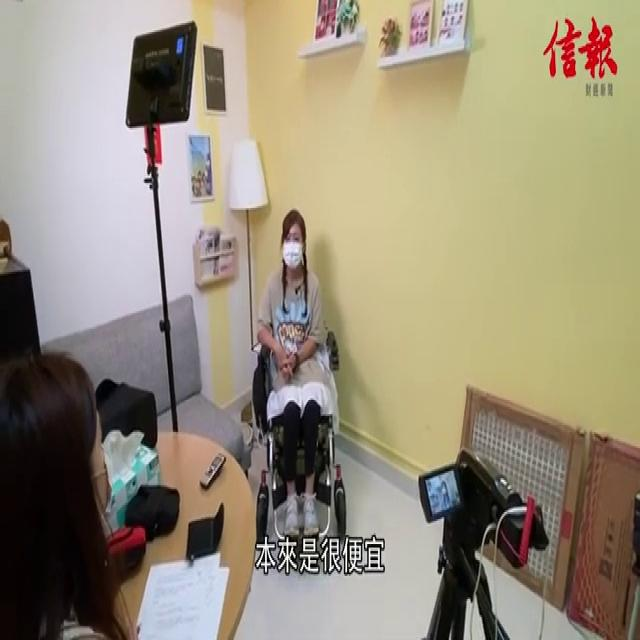wheelchairs: (246, 314, 351, 532)
